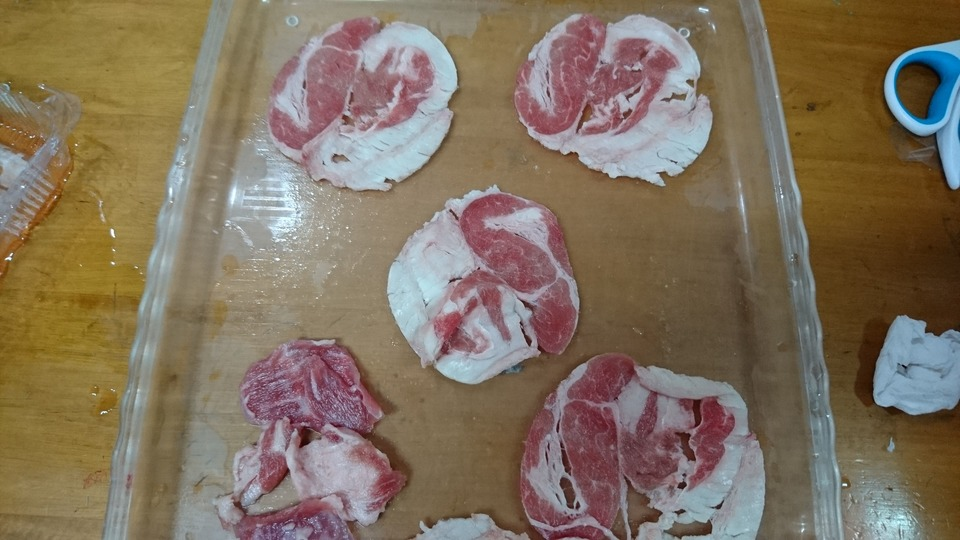restructured meat: (511, 349, 772, 540), (382, 179, 582, 384), (210, 335, 410, 540), (512, 5, 729, 191), (267, 14, 458, 198)
